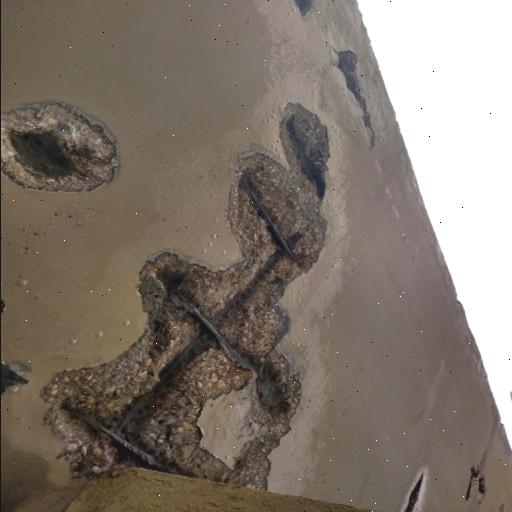spalling: (30, 91, 340, 482), (0, 90, 120, 202)
